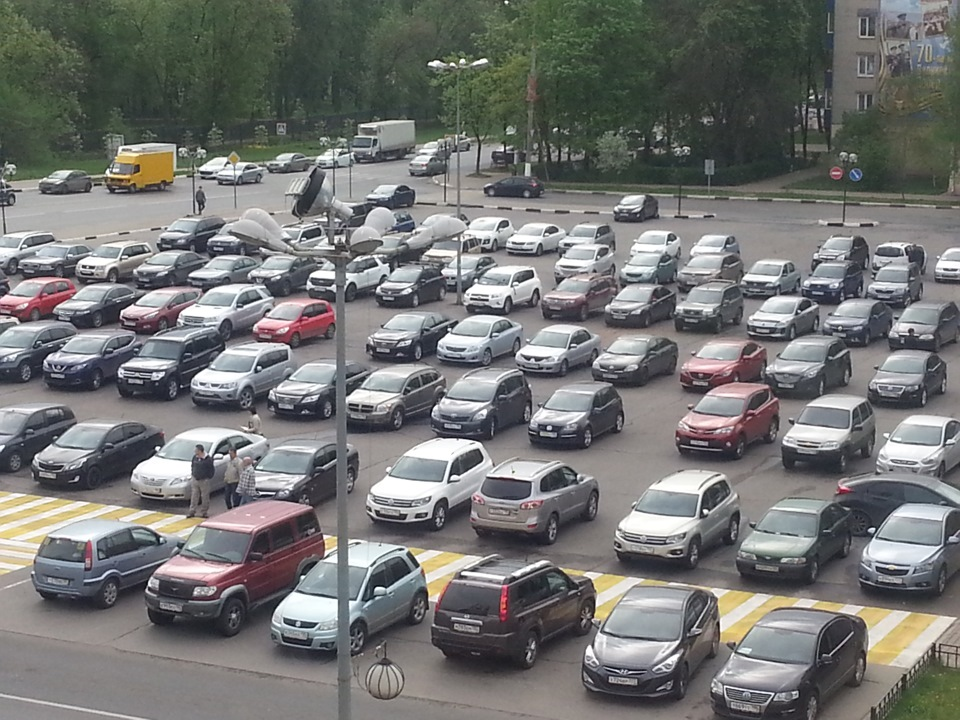Car: (145, 501, 324, 637), (430, 555, 597, 669), (270, 540, 430, 656), (709, 608, 869, 720), (580, 583, 721, 699), (31, 518, 183, 609), (613, 469, 743, 569), (366, 436, 495, 531), (470, 459, 600, 545), (130, 427, 270, 502), (735, 497, 855, 584), (31, 417, 166, 489), (856, 504, 960, 596), (834, 473, 960, 537), (674, 383, 780, 459), (116, 328, 225, 401), (780, 394, 876, 472), (430, 368, 534, 440), (252, 438, 359, 507), (267, 357, 379, 420), (190, 342, 295, 409), (345, 364, 447, 430), (527, 382, 625, 449), (42, 329, 142, 390), (765, 335, 854, 397), (177, 284, 275, 340), (875, 414, 960, 478), (0, 402, 77, 472), (365, 310, 457, 361), (679, 339, 768, 391), (867, 350, 948, 407), (0, 322, 77, 381), (515, 324, 602, 376), (436, 315, 524, 366), (591, 335, 679, 385), (253, 298, 337, 348), (305, 255, 390, 302), (53, 284, 143, 328), (888, 297, 960, 352), (463, 265, 542, 315), (120, 287, 200, 334), (674, 281, 745, 333), (541, 275, 616, 320), (76, 240, 153, 283), (746, 296, 821, 340), (823, 299, 893, 346), (0, 278, 76, 321), (604, 285, 676, 327), (376, 264, 446, 307), (105, 151, 175, 193), (249, 255, 318, 297), (133, 250, 206, 289), (260, 220, 328, 261), (351, 120, 416, 162), (677, 253, 744, 293), (156, 214, 226, 252), (16, 243, 92, 278), (801, 261, 864, 303), (187, 255, 259, 291), (0, 231, 57, 274), (740, 258, 801, 298), (866, 264, 922, 307), (555, 244, 616, 282), (440, 253, 499, 292), (105, 142, 176, 174), (419, 234, 481, 270), (557, 221, 617, 257), (505, 222, 566, 257), (370, 231, 422, 272), (871, 241, 927, 278), (810, 235, 869, 270), (313, 202, 372, 235), (619, 253, 678, 286), (206, 222, 257, 256), (467, 216, 515, 252), (630, 228, 683, 260), (38, 169, 93, 195), (612, 193, 659, 223), (483, 176, 544, 199), (412, 212, 471, 234), (689, 234, 741, 258), (932, 246, 960, 284), (216, 162, 264, 184), (267, 152, 310, 174), (408, 154, 447, 177), (315, 148, 355, 170), (386, 210, 416, 235), (198, 156, 231, 178), (418, 139, 452, 158), (492, 145, 525, 163), (0, 177, 17, 207), (442, 135, 471, 151), (0, 315, 20, 335), (0, 269, 10, 298)
